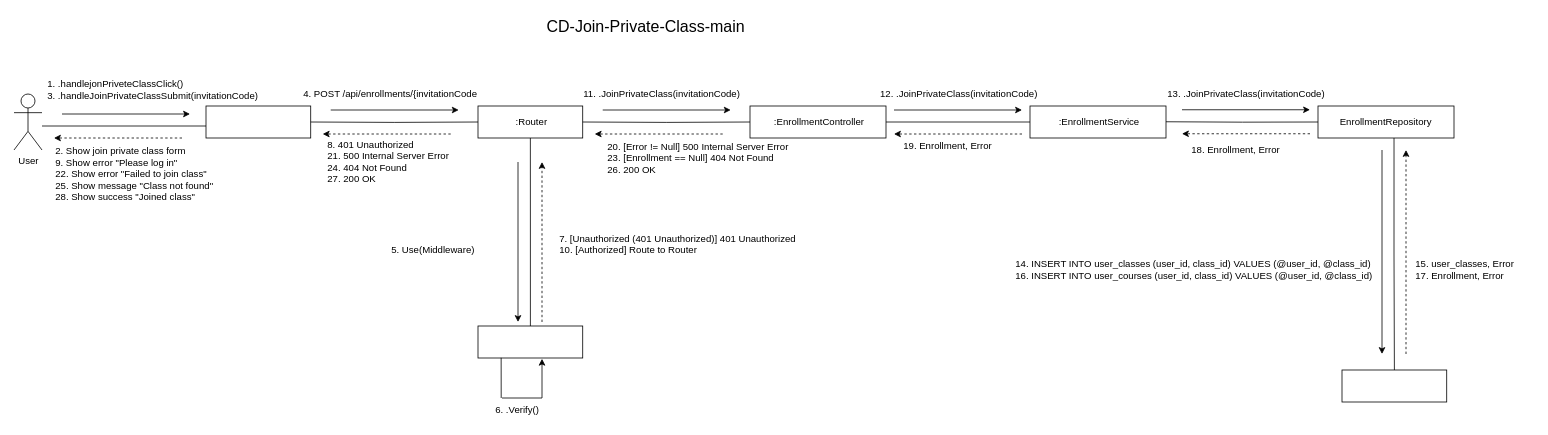
The diagram is 1548 pixels wide and 435 high, and some of its shapes have lost their labels. The shapes that lost their labels are listed below. From the top down, each one's centre as x and y in pixels, then its label:
At point 258,121: ":Frontend".
At point 530,341: ":Middleware".
At point 1394,385: ":Database".
